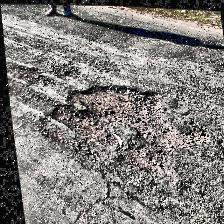pothole: (37, 72, 209, 174)
